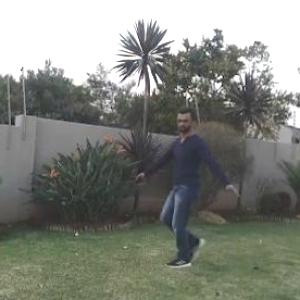land: (131, 94, 252, 294)
